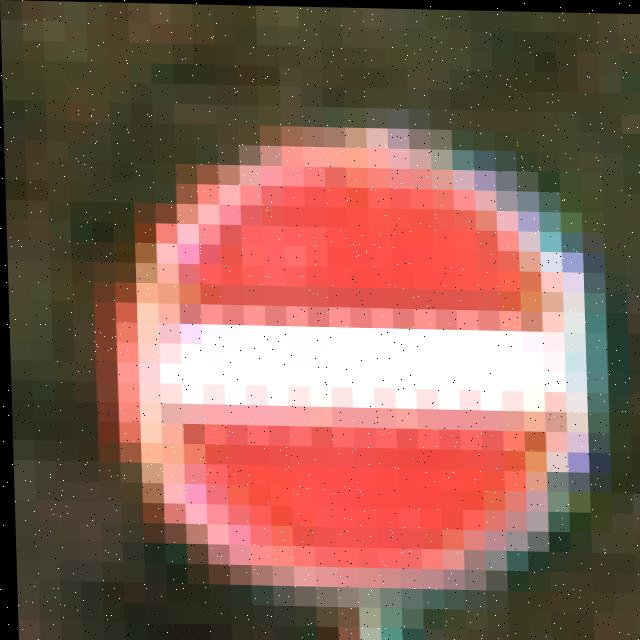road_rough: (91, 182, 640, 614)
